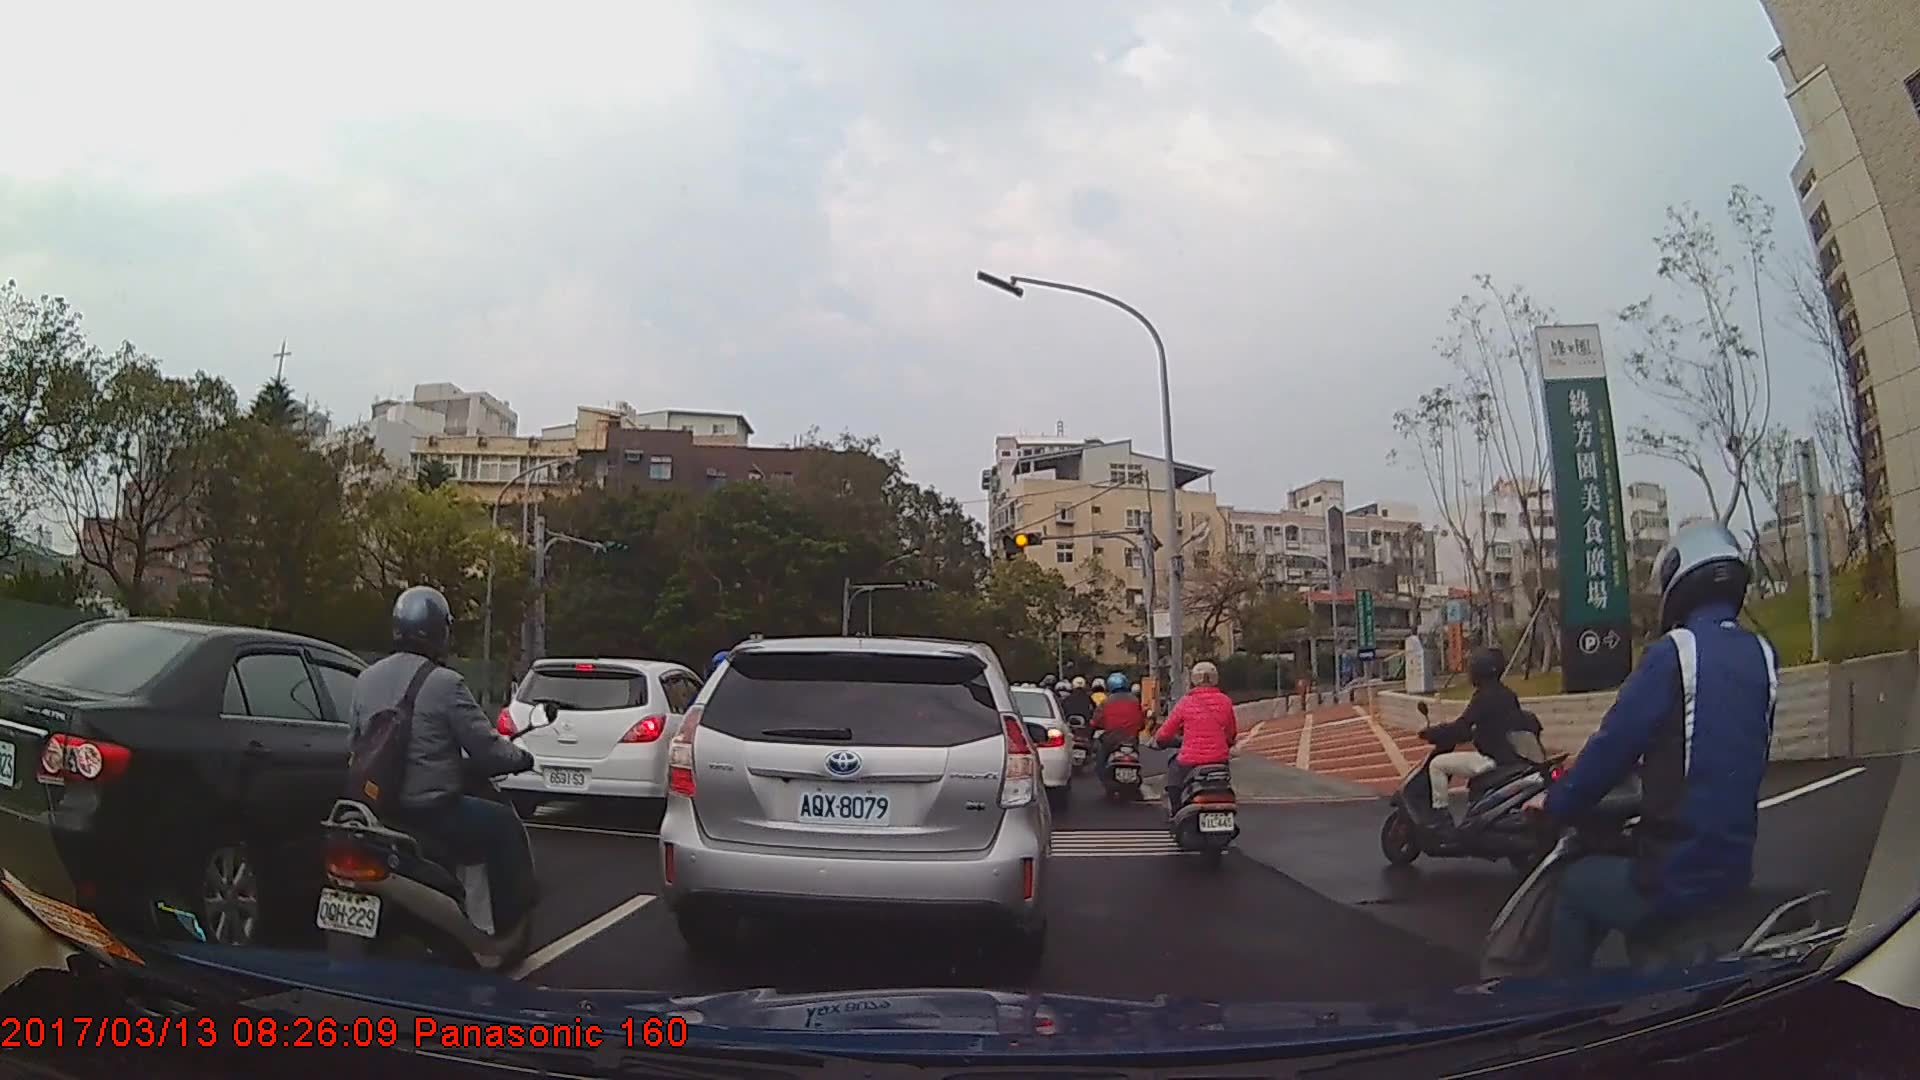pedestrian: (502, 673, 523, 729)
rider: (1481, 518, 1866, 1079), (313, 581, 540, 1001), (1382, 651, 1574, 871), (1160, 658, 1241, 868), (1092, 669, 1153, 812), (1065, 674, 1104, 776)
vehicle: (0, 614, 500, 962), (656, 635, 1049, 964), (492, 657, 724, 827), (963, 686, 1075, 806)
